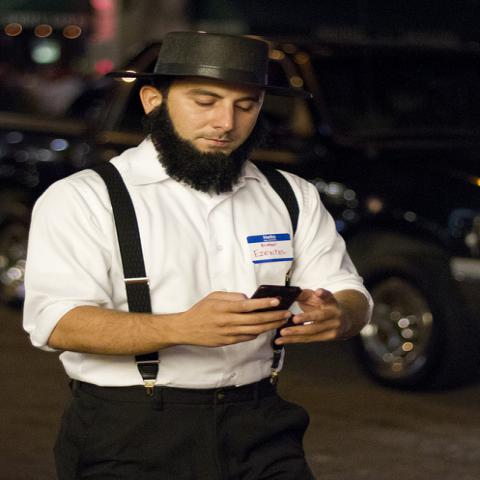car: (286, 154, 479, 404)
